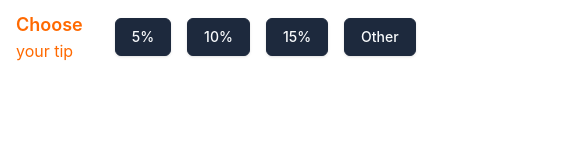
TipInputView › should show custom input when clicking Other
This screenshot has width=577, height=160.
Click the button "Other".
click(380, 37)  # box [344, 18, 416, 56]
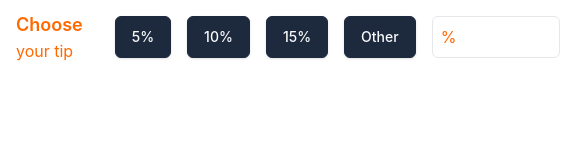
Now the field with placeholder "%" is shown, box [432, 16, 560, 58]
